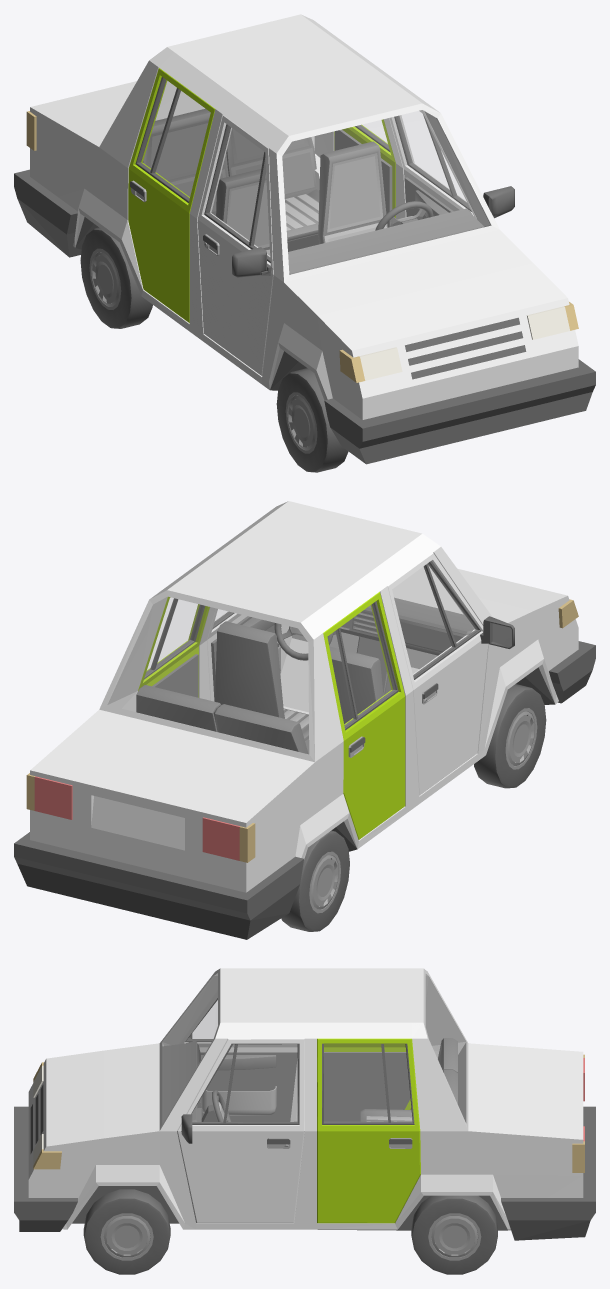
3 renders of one model, top to bottom at view 1: azimuth 30°, elevation 25°; view 2: azimuth 150°, elevation 25°; view 3: azimuth 270°, elevation 25°, orthographic. The views are drawn at different scales.
Parts seen in each view (by area): view 1: Chassis_Chassis_0, Windows_Windows_0, Chassis_Bumpers_0, Interior_InteriorPanel_0, FR_Door_Chassis_0, RR_Door_Chassis_0, Interior_Handler_0, RR_Door_Windows_0, FR_Door_Windows_0, FR_Wheel_Tire_0, RR_Wheel_Tire_0, FR_Door_Bumpers_0 (+11 smaller); view 2: Chassis_Chassis_0, Windows_Windows_0, Chassis_Bumpers_0, Interior_InteriorPanel_0, FR_Door_Chassis_0, RR_Door_Chassis_0, FR_Door_Windows_0, RR_Door_Windows_0, FR_Wheel_Tire_0, RR_Wheel_Tire_0, Brake_Lights_Brake_lights_0, FR_Door_Bumpers_0 (+11 smaller); view 3: Chassis_Chassis_0, FL_Door_Chassis_0, RL_Door_Chassis_0, Chassis_Bumpers_0, Windows_Windows_0, FL_Door_Windows_0, RL_Door_Windows_0, RR_Door_InteriorPanel_0, FL_Wheel_Tire_0, RL_Wheel_Tire_0, FR_Door_InteriorPanel_0, Interior_InteriorPanel_0 (+9 smaller).
Part boxes in pixels (bbox=[...]): Chassis_Chassis_0: bbox=[30, 14, 578, 419]; Windows_Windows_0: bbox=[156, 82, 489, 273]; Chassis_Bumpers_0: bbox=[14, 169, 595, 464]; Interior_InteriorPanel_0: bbox=[142, 108, 484, 274]; FR_Door_Chassis_0: bbox=[197, 115, 273, 375]; RR_Door_Chassis_0: bbox=[128, 68, 215, 322]; Interior_Handler_0: bbox=[226, 153, 386, 255]; RR_Door_Windows_0: bbox=[139, 80, 209, 198]; FR_Door_Windows_0: bbox=[208, 127, 269, 258]; FR_Wheel_Tire_0: bbox=[276, 368, 348, 472]; RR_Wheel_Tire_0: bbox=[80, 227, 152, 328]; FR_Door_Bumpers_0: bbox=[203, 124, 271, 277]; Chassis_Chassis_0: bbox=[30, 501, 578, 892]; Windows_Windows_0: bbox=[108, 568, 461, 753]; Chassis_Bumpers_0: bbox=[14, 641, 595, 939]; Interior_InteriorPanel_0: bbox=[136, 601, 473, 754]; FR_Door_Chassis_0: bbox=[387, 553, 488, 795]; RR_Door_Chassis_0: bbox=[323, 592, 405, 839]; FR_Door_Windows_0: bbox=[392, 563, 477, 675]; RR_Door_Windows_0: bbox=[328, 604, 395, 726]; FR_Wheel_Tire_0: bbox=[474, 684, 546, 788]; RR_Wheel_Tire_0: bbox=[281, 830, 349, 931]; Brake_Lights_Brake_lights_0: bbox=[34, 776, 239, 860]; FR_Door_Bumpers_0: bbox=[413, 561, 514, 701]; Chassis_Chassis_0: bbox=[28, 968, 583, 1229]; FL_Door_Chassis_0: bbox=[177, 1038, 304, 1223]; RL_Door_Chassis_0: bbox=[317, 1038, 420, 1223]; Chassis_Bumpers_0: bbox=[14, 1085, 595, 1240]; Windows_Windows_0: bbox=[164, 974, 465, 1120]; FL_Door_Windows_0: bbox=[192, 1044, 297, 1122]; RL_Door_Windows_0: bbox=[324, 1044, 411, 1121]; RR_Door_InteriorPanel_0: bbox=[324, 1052, 410, 1121]; FL_Wheel_Tire_0: bbox=[83, 1189, 170, 1274]; RL_Wheel_Tire_0: bbox=[411, 1195, 497, 1274]; FR_Door_InteriorPanel_0: bbox=[200, 1052, 297, 1121]; Interior_InteriorPanel_0: bbox=[162, 1038, 457, 1123].
Bounding box in the file's own units: 5.2 × 4.99 × 11.18.
